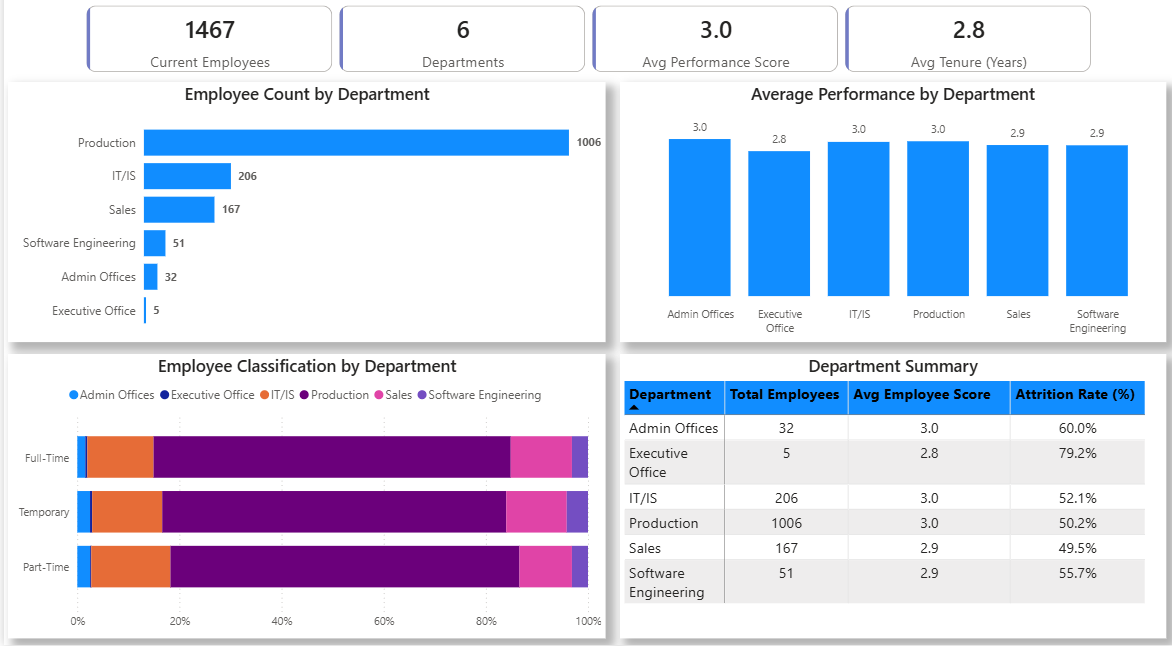

Layout of this report page (visuals, bound fields, positions):
{"tool":"powerbi","page":{"name":"Departmental & Job Function Analysis","canvas":[1300,800],"ordinal":2},"visuals":[{"type":"shape","box":[0,0,1300,81.1],"z":0},{"type":"pageNavigator","box":[704.4,6.7,586.7,67.8],"z":1},{"type":"cardVisual","fields":{"Data":["Key Measures.Total Employees","Key Measures.Departments","Key Measures.Avg Performance Score","Key Measures.Avg Tenure (Years)"]},"box":[86.7,84.4,1126.7,84.4],"z":2},{"type":"clusteredBarChart","title":"Employee Count by Department","fields":{"Y":["Key Measures.Total Employees"],"Category":["Employee Data.Department"]},"box":[4.4,174.4,664.4,288.9],"z":3},{"type":"clusteredColumnChart","title":"Average Performance by Department","fields":{"Y":["Key Measures.Avg Performance Score"],"Category":["Employee Data.Department"]},"box":[684.4,174.4,606.7,288.9],"z":4},{"type":"hundredPercentStackedBarChart","title":"Employee Classification by Department","fields":{"Category":["Employee Data.Employment Class"],"Series":["Employee Data.Department"],"Y":["Key Measures.Total Employees"]},"box":[4.4,476.7,664.4,315.6],"z":5},{"type":"pivotTable","title":"Department Summary","fields":{"Rows":["Employee Data.Department"],"Values":["Key Measures.Total Employees","Key Measures.Avg Performance Score","Key Measures.Attrition Rate (%)"]},"box":[684.4,476.7,606.7,315.6],"z":6}]}

Visuals, with their boxes on the page's 1300x800 design canvas (x1, y1, x2, y2). These are canvas units, not pixel positions in the 1172x646 screenshot, which may show the page scaled, cropped or inside an application window:
shape: l=0, t=0, r=1300, b=81
pageNavigator: l=704, t=7, r=1291, b=74
cardVisual - Key Measures.Total Employees x Key Measures.Departments: l=87, t=84, r=1213, b=169
"Employee Count by Department" clusteredBarChart: l=4, t=174, r=669, b=463
"Average Performance by Department" clusteredColumnChart: l=684, t=174, r=1291, b=463
"Employee Classification by Department" hundredPercentStackedBarChart: l=4, t=477, r=669, b=792
"Department Summary" pivotTable: l=684, t=477, r=1291, b=792
